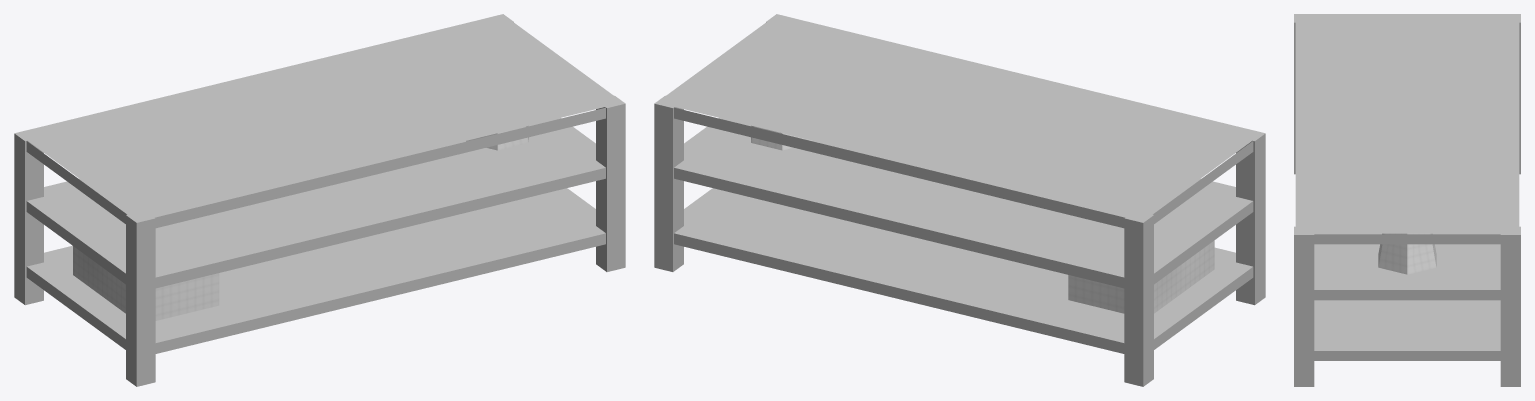
File: shelf.obj
The picture shows the model from 3 angles, left to right: view 1: azimuth 30°, elevation 25°; view 2: azimuth 150°, elevation 25°; view 3: azimuth 270°, elevation 25°; orthographic projection. The views are drawn at different scales.
Parts seen in each view (by area): view 1: shelf; view 2: shelf; view 3: shelf.
Part boxes in pixels (x1=…): shelf: x1=14, y1=14, x2=625, y2=386; shelf: x1=654, y1=14, x2=1265, y2=386; shelf: x1=1294, y1=14, x2=1520, y2=386.
Size of the model in its own units: 1.87 by 0.603 by 0.812.
